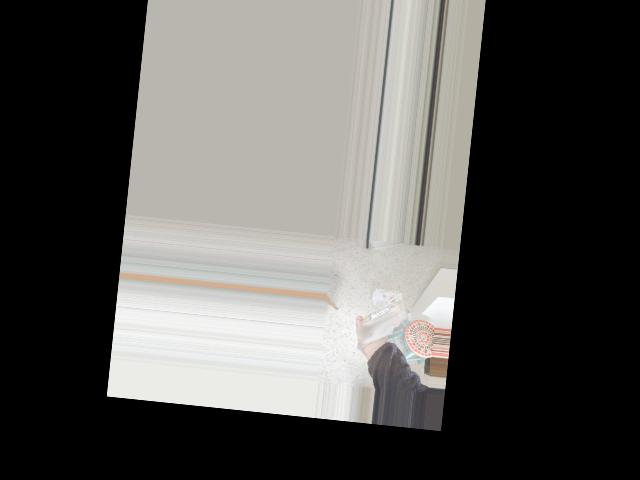cheese: (349, 280, 431, 360)
